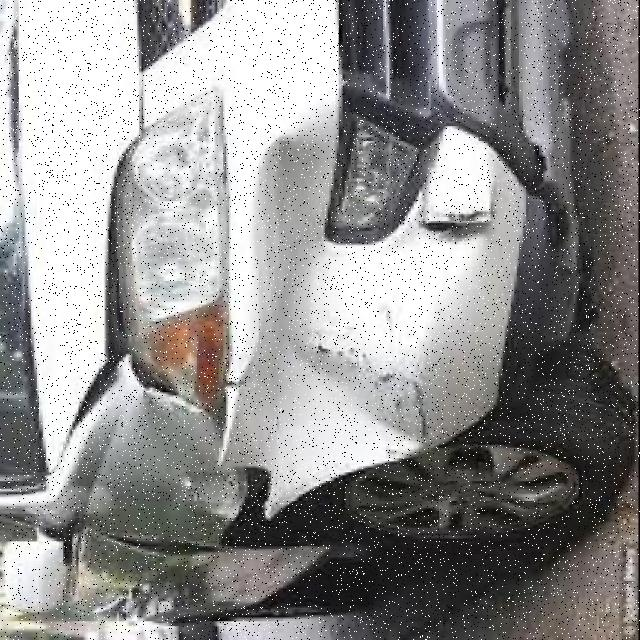damage: (56, 118, 531, 555)
